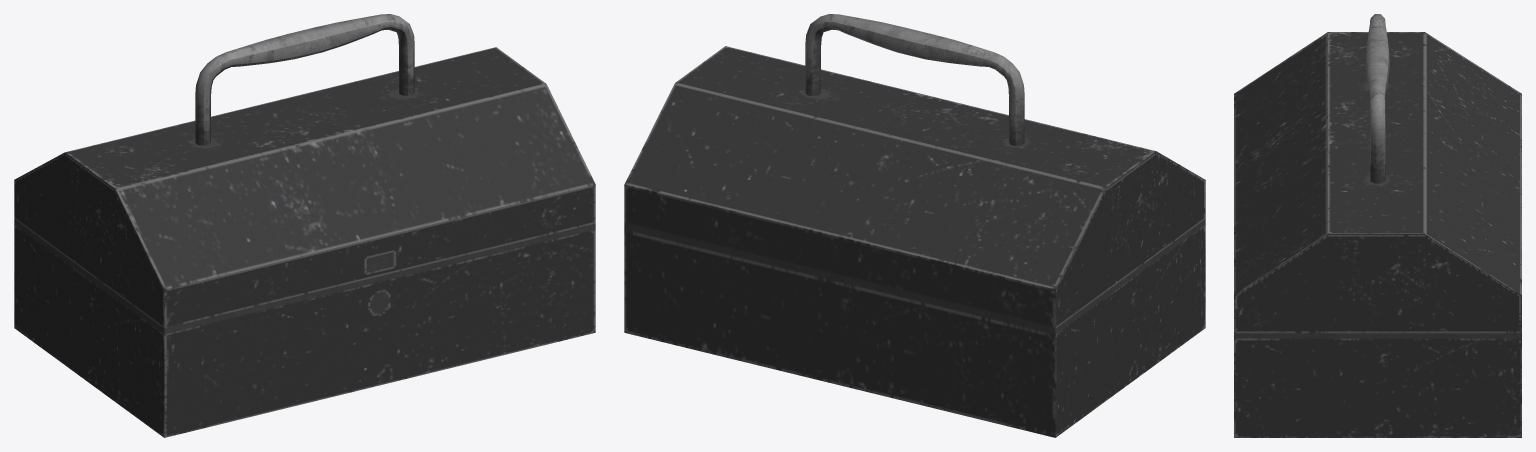
File: Tool box.fbx
3 renders of one model, left to right at view 1: azimuth 30°, elevation 25°; view 2: azimuth 150°, elevation 25°; view 3: azimuth 270°, elevation 25°, orthographic. The views are drawn at different scales.
Parts seen in each view (by area): view 1: Cube.001; view 2: Cube.001; view 3: Cube.001.
Part boxes in pixels (x1,y1,x2,y2): Cube.001: [14, 14, 595, 437]; Cube.001: [624, 14, 1205, 437]; Cube.001: [1234, 14, 1521, 437].
Bounding box in the file's own units: 47.36 × 31.19 × 28.54.
